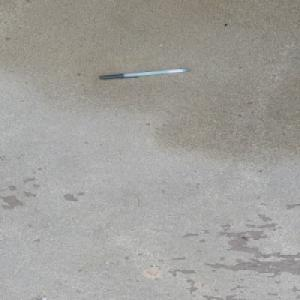Pen: (98, 67, 190, 80)
